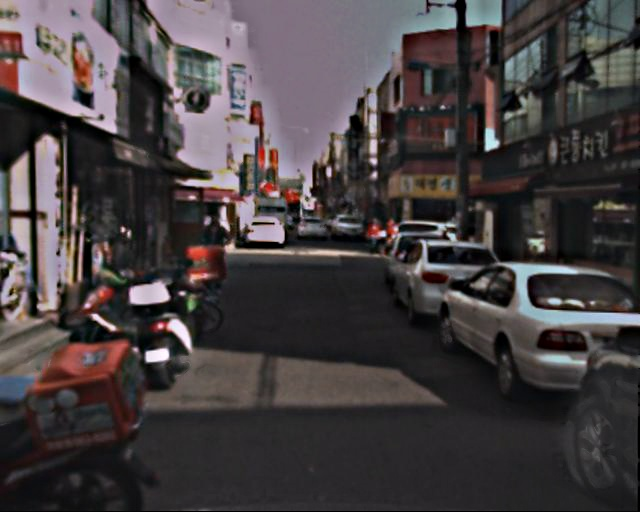person: (198, 209, 235, 300), (367, 216, 383, 256), (384, 218, 400, 258)
